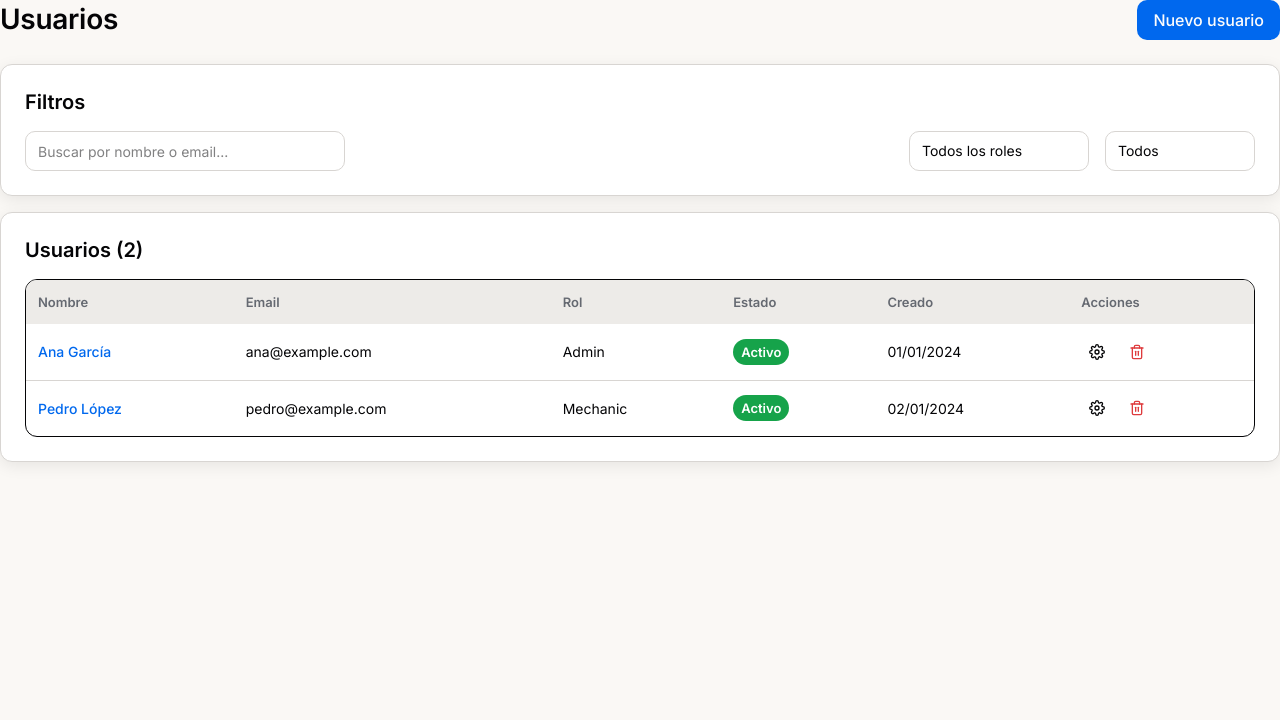
Test: UserListPage › does not delete a user when the dialog is cancelled
Expected: the link "Ana García" is shown, [38,343,111,360]
Click the button named "Eliminar" in the row of "Ana García" at [1137, 352], box [1121,336,1153,368]
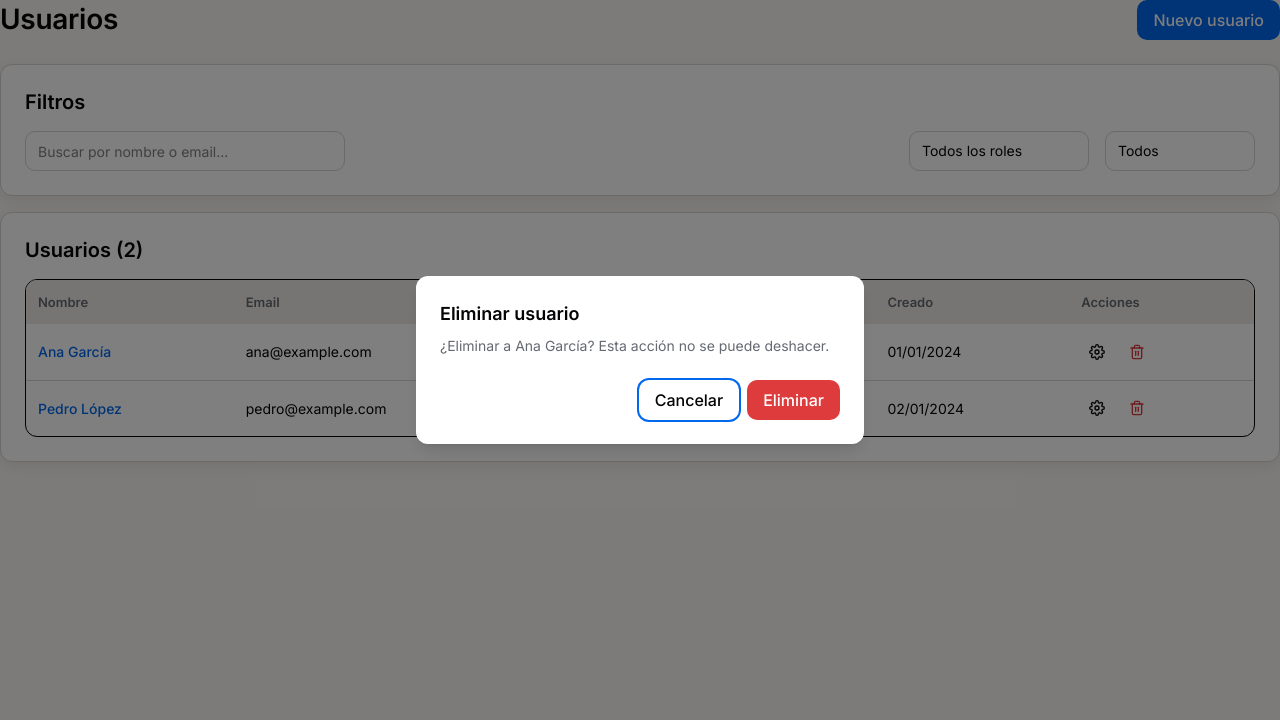
Click the button "Cancelar" at [689, 400], box [639,380,739,420]
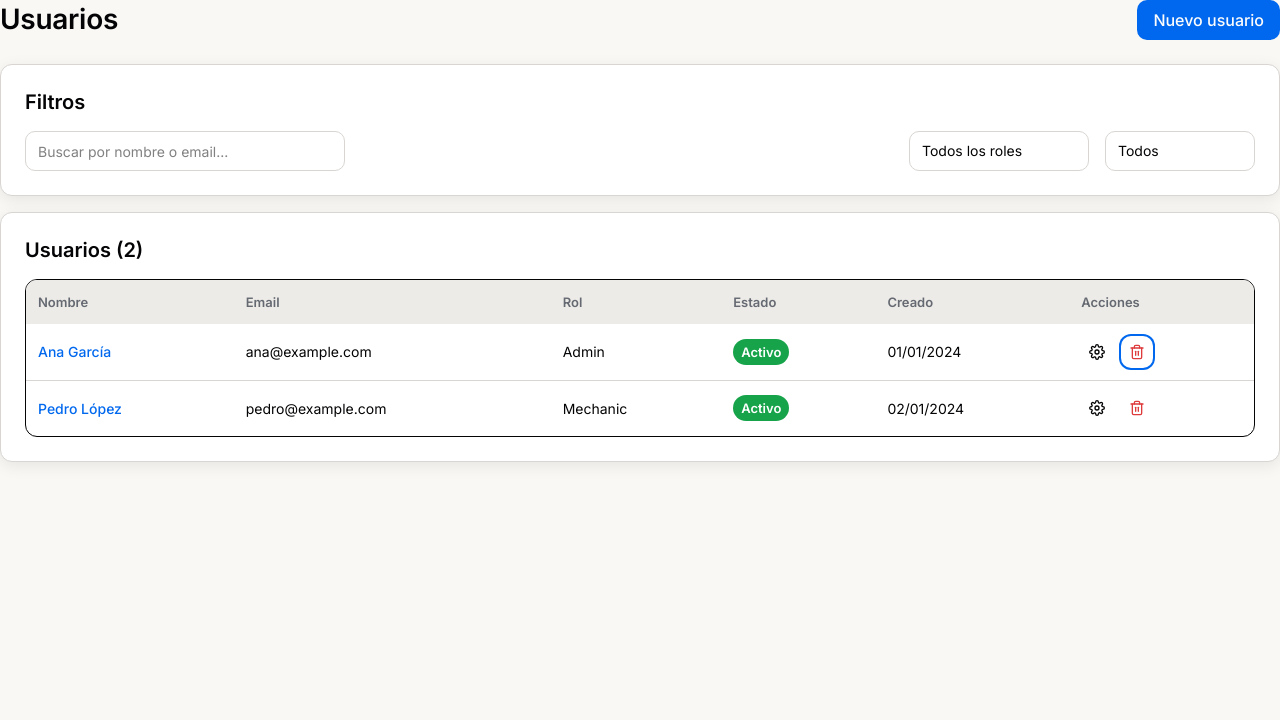
Now the heading "Eliminar usuario" is gone
